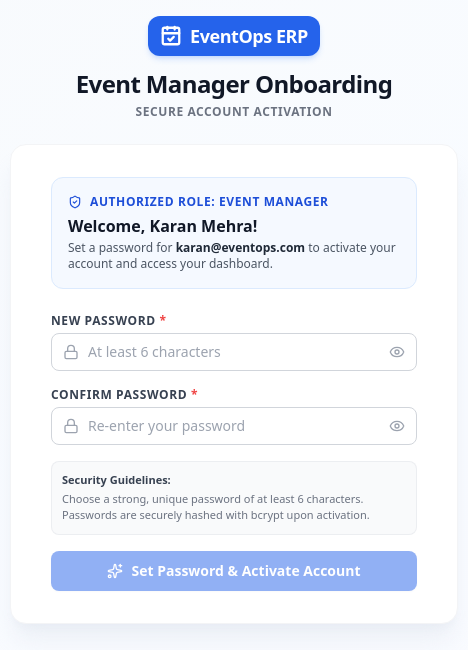
Test: AcceptInvitation Component › successfully sets password and shows activation success message
This screenshot has width=468, height=650.
Expected: the heading "Welcome, Karan Mehra!" is shown, [68,215,257,237]
In the password field with placeholder "At least 6 characters": (234, 352) [51,333,417,371], type "ManagerPass123"
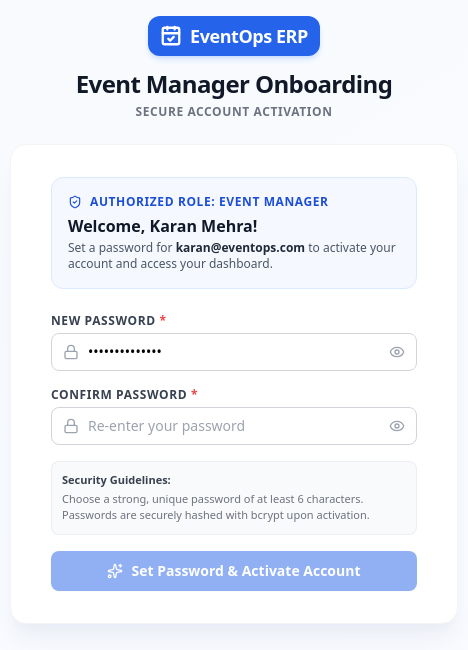
In the password field with placeholder "Re-enter your password": (234, 426) [51,407,417,445], type "ManagerPass123"
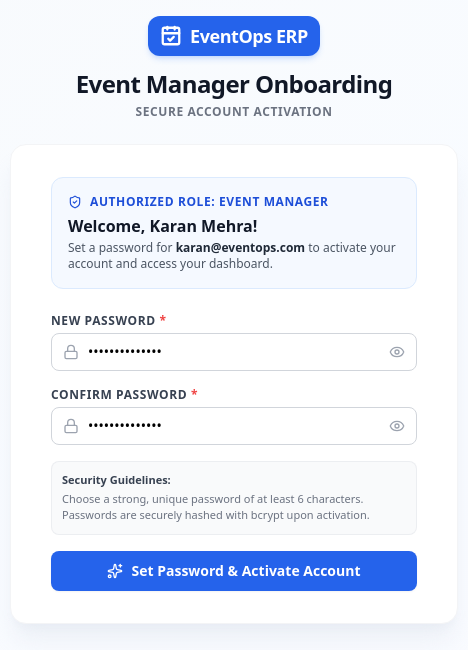
Click the button "Set Password & Activate Account": (234, 571) [51,551,417,591]
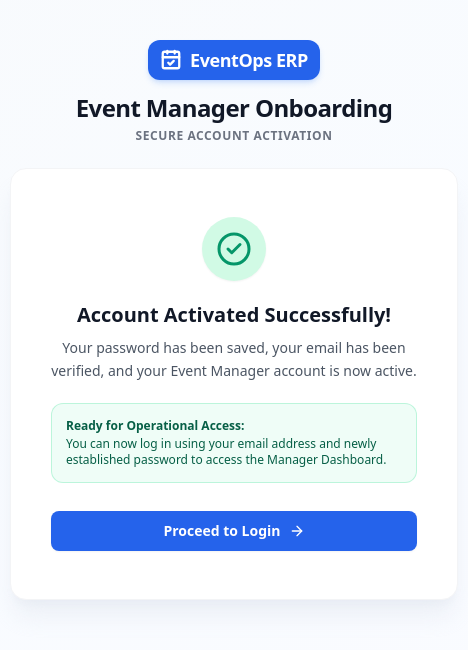
Now the heading "Account Activated Successfully!" is shown, box [51,301,417,329]
Now the button "Proceed to Login" is shown, box [51,511,417,551]
